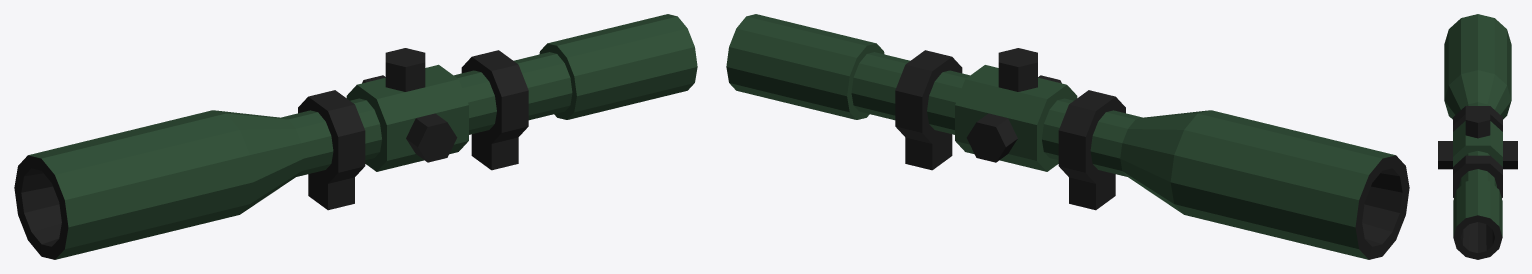
The model's file is trijicon_credo.fbx.
The picture shows the model from 3 angles, left to right: view 1: azimuth 30°, elevation 25°; view 2: azimuth 150°, elevation 25°; view 3: azimuth 270°, elevation 25°; orthographic projection. The views are drawn at different scales.
Parts seen in each view (by area): view 1: credo, scope_towers; view 2: credo, scope_towers; view 3: credo, scope_towers.
Part boxes in pixels (<box>): credo: <box>14,14,697,259</box>; scope_towers: <box>298,50,528,210</box>; credo: <box>726,14,1409,259</box>; scope_towers: <box>895,50,1125,210</box>; credo: <box>1438,14,1517,259</box>; scope_towers: <box>1453,106,1502,197</box>.
Bounding box in the file's own units: 81.81 × 468 × 87.27.
